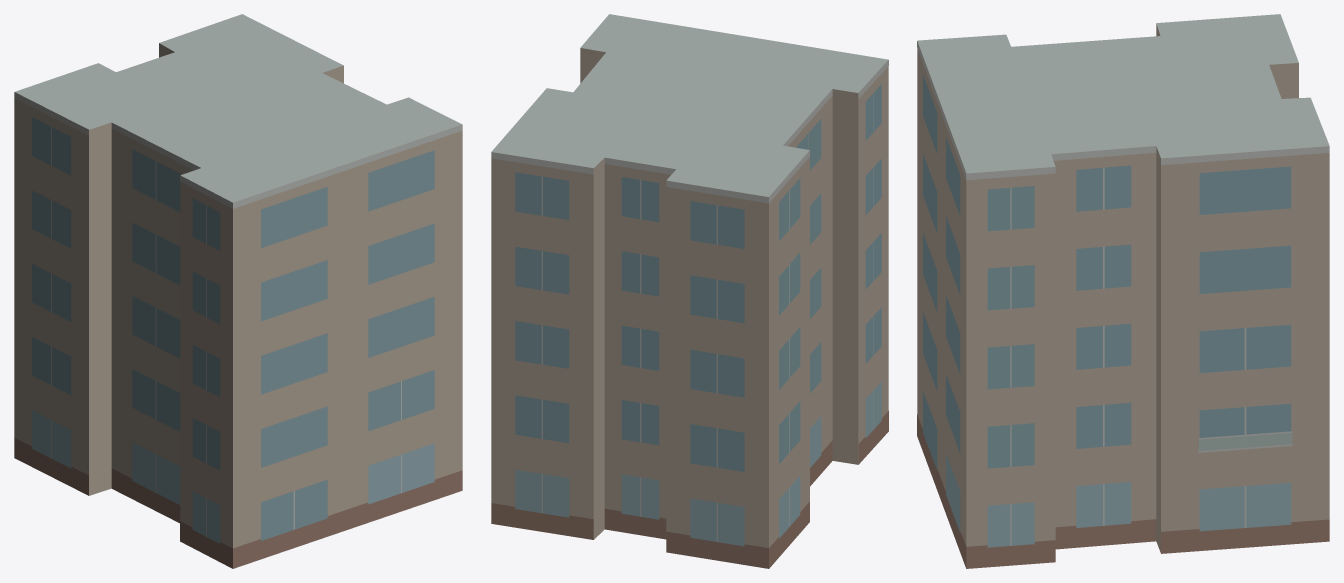
File: survey-upis-32747523.glb
The picture shows the model from 3 angles, left to right: view 1: azimuth 30°, elevation 25°; view 2: azimuth 150°, elevation 25°; view 3: azimuth 270°, elevation 25°; orthographic projection. The views are drawn at different scales.
Visible parts, largest first — view 1: survey-upis-32747523.tmp; view 2: survey-upis-32747523.tmp; view 3: survey-upis-32747523.tmp.
Part boxes in pixels (box(x1,y1,x2,y2)): survey-upis-32747523.tmp: box(14, 14, 462, 568); survey-upis-32747523.tmp: box(491, 14, 888, 568); survey-upis-32747523.tmp: box(917, 14, 1329, 568).
Bounding box in the file's own units: 12.47 × 14.4 × 13.63.
